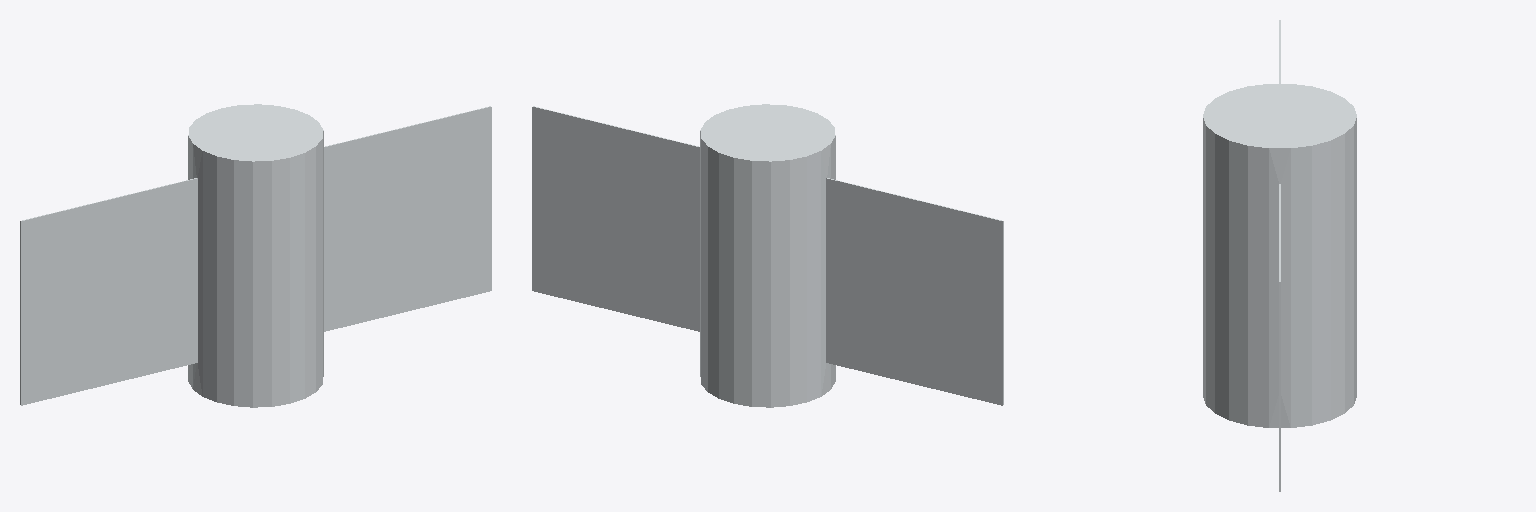
The robot description file, URDF, robot "space_station":
<?xml version="1.0" encoding="utf-8"?>
<!-- This URDF was automatically created by SolidWorks to URDF Exporter! Originally created by [author] ([email redacted]) 
     Commit Version: 1.6.0-4-g7f85cfe  Build Version: 1.6.7995.38578
     For more information, please see http://wiki.ros.org/sw_urdf_exporter -->
<robot
  name="space_station">
  <link
    name="base_link">
    <inertial>
      <origin
        xyz="2.7914E-17 1 7.7098E-18"
        rpy="0 0 0" />
      <mass
        value="4524.2" />
      <inertia
        ixx="1764.6"
        ixy="-9.8754E-31"
        ixz="-1.0239E-15"
        iyy="770.28"
        iyz="2.8329E-17"
        izz="1985.1" />
    </inertial>
    <visual>
      <origin
        xyz="0 0 0"
        rpy="0 0 0" />
      <geometry>
        <mesh
          filename="meshes/base_link.STL" />
      </geometry>
      <material
        name="">
        <color
          rgba="0.89804 0.91765 0.92941 1" />
      </material>
    </visual>
    <collision>
      <origin
        xyz="0 0 0"
        rpy="0 0 0" />
      <geometry>
        <mesh
          filename="meshes/base_link.STL" />
      </geometry>
    </collision>
  </link>
</robot>

--- What the picture shows (computed from the rendered views, not written in the file) ---
The picture shows the robot from 3 angles, left to right: view 1: azimuth 30°, elevation 25°; view 2: azimuth 150°, elevation 25°; view 3: azimuth 270°, elevation 25°; orthographic projection.
Model space_station with 1 links and 0 joints (none), rooted at base_link, posed every joint at zero.
Visible links, largest first — view 1: base_link; view 2: base_link; view 3: base_link.
Link boxes in pixels (left/top/right/bottom): base_link: left=20, top=104, right=491, bottom=407; base_link: left=532, top=104, right=1003, bottom=407; base_link: left=1203, top=20, right=1356, bottom=491.
Bounding box of the posed robot: 4 × 1 × 2 m (x, y, z).
Meshes: 1 distinct files referenced, 1 mesh visuals loaded (1 binary STL).